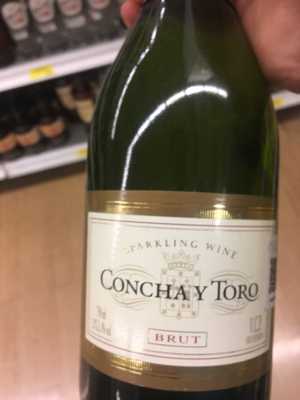brut: (82, 22, 278, 400)
